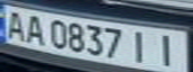0: (42, 17, 69, 50)
3: (81, 23, 106, 57)
7: (103, 25, 127, 61)
8: (63, 20, 87, 54)
A: (0, 8, 30, 41), (21, 12, 48, 45)
I: (151, 30, 184, 69), (127, 28, 154, 64)
